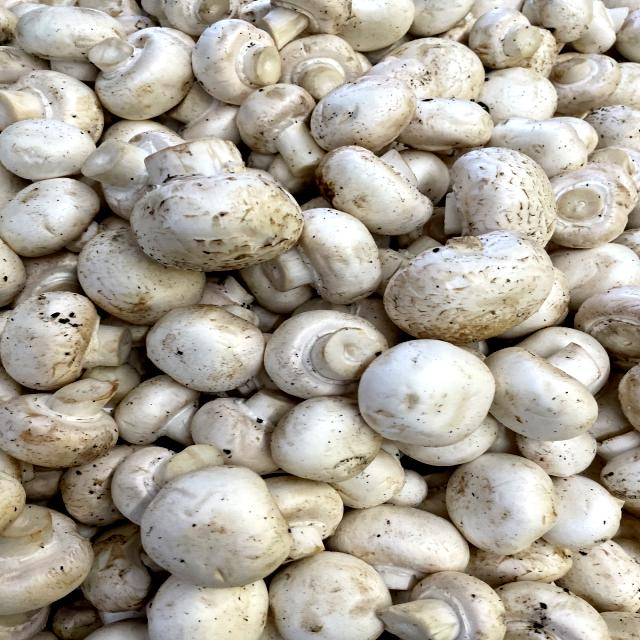mushroom: (121, 135, 315, 272), (125, 455, 308, 594), (379, 216, 561, 346), (355, 329, 512, 451), (137, 291, 276, 400), (480, 330, 615, 442), (259, 296, 389, 406), (70, 16, 194, 121), (361, 558, 516, 640), (309, 66, 432, 168), (188, 11, 291, 110)
